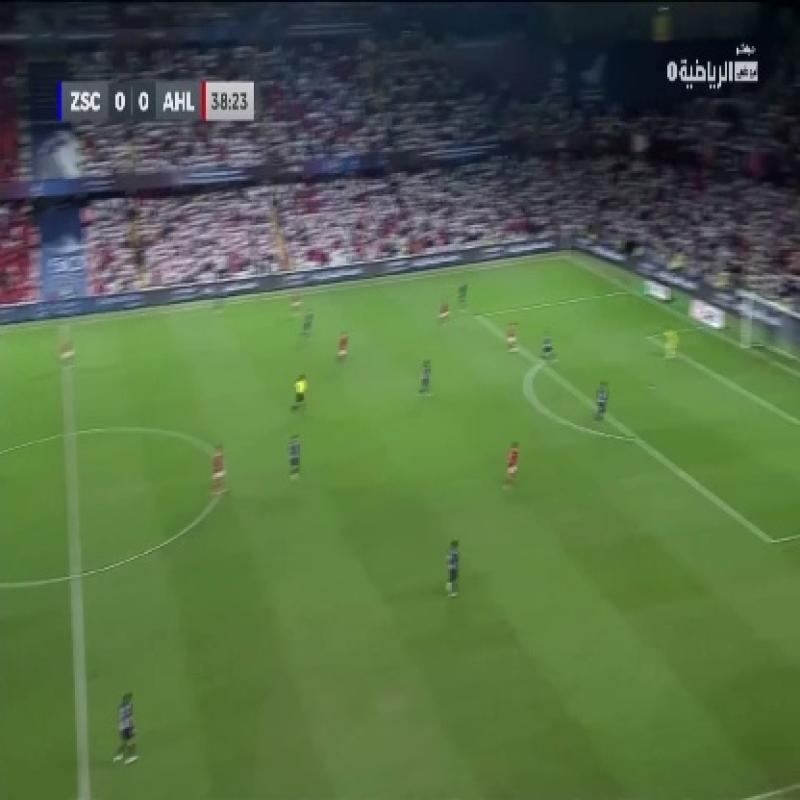1: (556, 252, 575, 266)
10: (532, 354, 544, 372)
11: (626, 429, 640, 448)
12: (760, 524, 781, 556)
13: (52, 317, 78, 335)
14: (57, 412, 80, 452)
15: (64, 556, 86, 594)
2: (622, 282, 646, 302)
3: (696, 319, 712, 337)
7: (642, 328, 662, 346)
9: (471, 308, 481, 322)
c: (204, 454, 238, 485)
